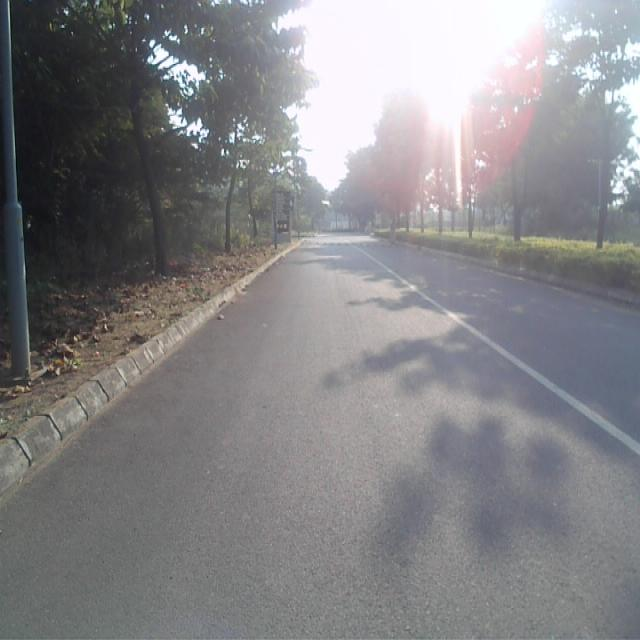lane: (0, 238, 640, 640)
